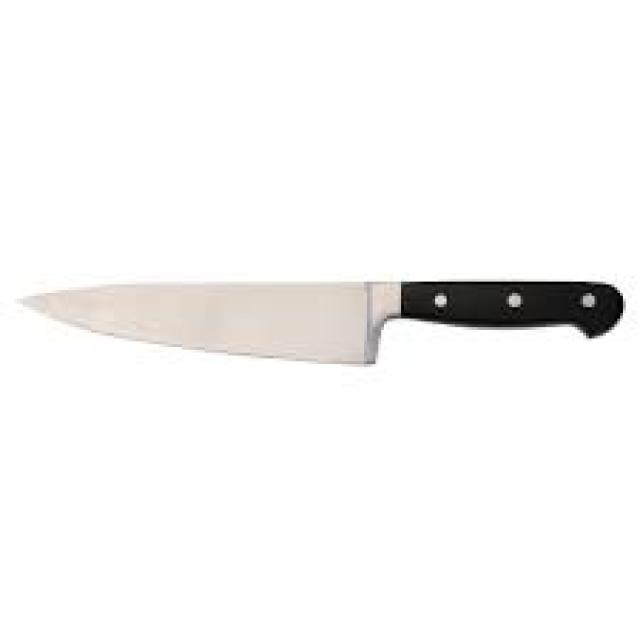knife: (10, 263, 632, 379)
